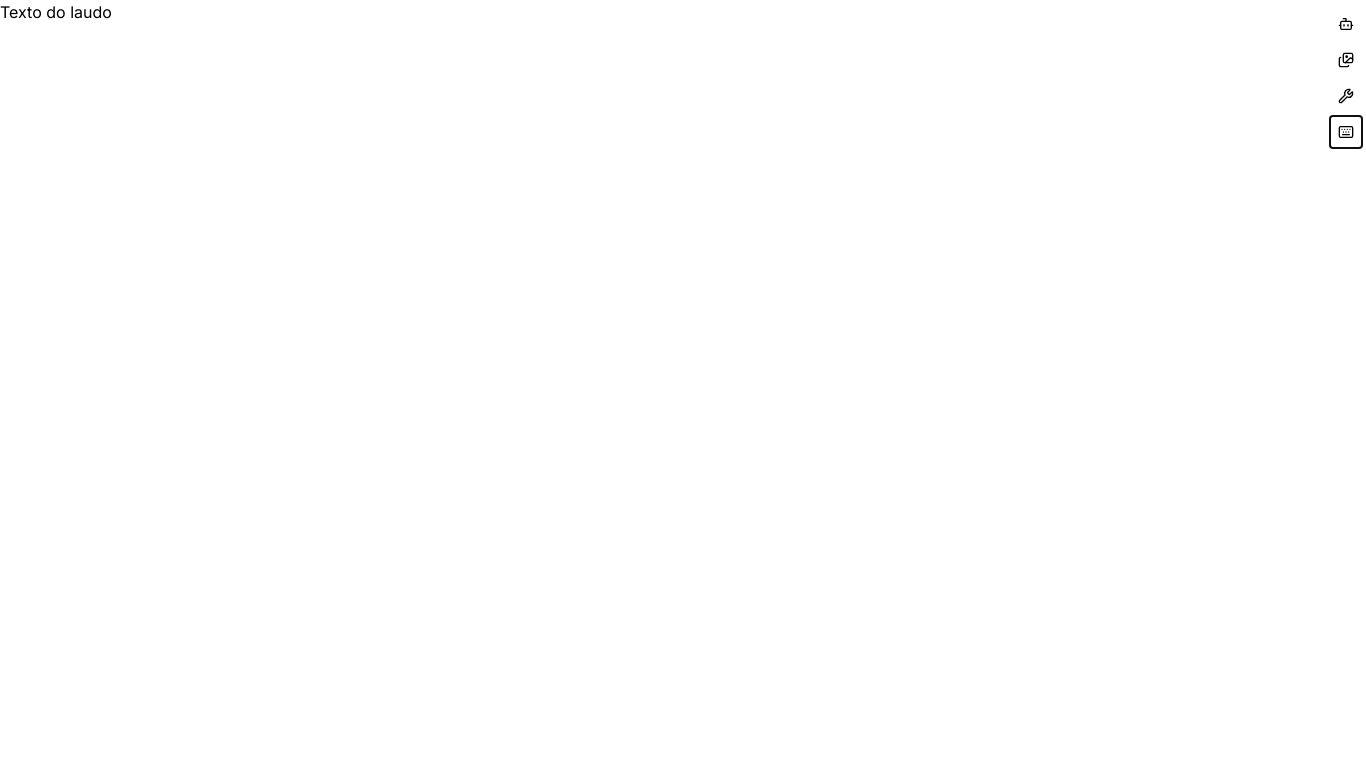
Test: PainelLateralRedimensionavel › abre o guia, fecha por botão e devolve o foco ao botão do trilho
The image size is (1366, 768).
Step 1. Click the button named "Atalhos do laudo" → (1346, 132), box left=1330, top=116, right=1362, bottom=148
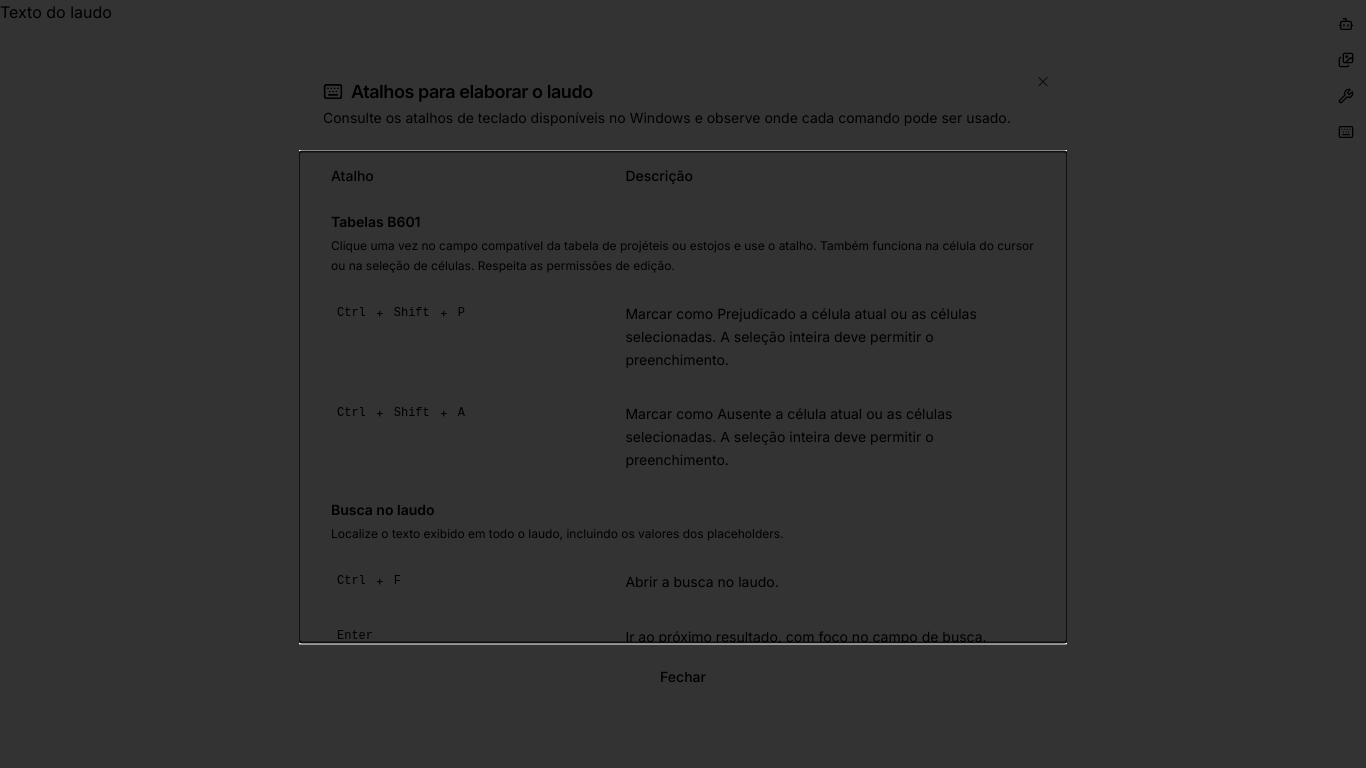
Now the column headings read "Atalho", "Descrição", in this order, box left=315, top=152, right=609, bottom=200; left=609, top=152, right=1051, bottom=200
Now the heading "Busca no laudo" is shown, box left=331, top=500, right=434, bottom=517
Step 2. Click the button "Fechar" → (683, 676), box left=323, top=658, right=1043, bottom=694
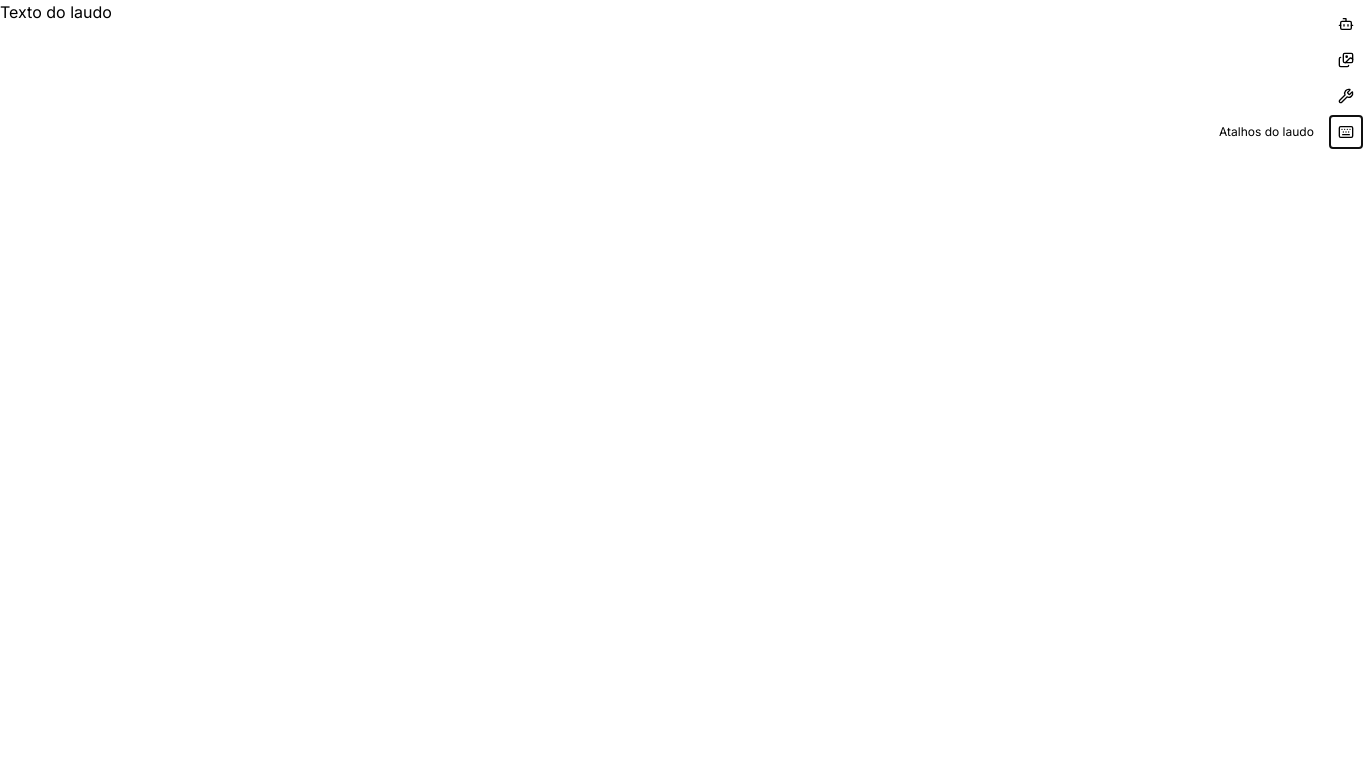
Expected: the text "Texto do laudo" is shown, left=0, top=2, right=112, bottom=22
Now the dialog is gone
